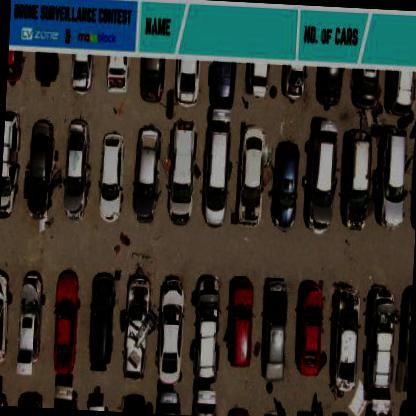car: (122, 272, 158, 382), (306, 120, 339, 235), (201, 111, 232, 229), (330, 284, 362, 394), (338, 128, 372, 231), (188, 274, 220, 382), (158, 278, 188, 387), (380, 123, 410, 228), (51, 272, 81, 376), (294, 281, 326, 378), (260, 277, 290, 378), (370, 289, 398, 395), (167, 122, 195, 226), (26, 119, 56, 214), (64, 118, 92, 219), (87, 271, 116, 368), (237, 126, 265, 224), (226, 278, 256, 368), (17, 272, 44, 372), (133, 126, 161, 222), (97, 132, 126, 224), (0, 110, 24, 218), (274, 142, 300, 233), (208, 61, 236, 106), (0, 269, 13, 364), (388, 72, 416, 116), (350, 68, 380, 108), (314, 66, 344, 104), (105, 54, 130, 92), (140, 60, 162, 102), (32, 51, 59, 84), (178, 63, 198, 106), (71, 56, 92, 96), (245, 63, 269, 97), (286, 66, 306, 100), (6, 49, 23, 82)
